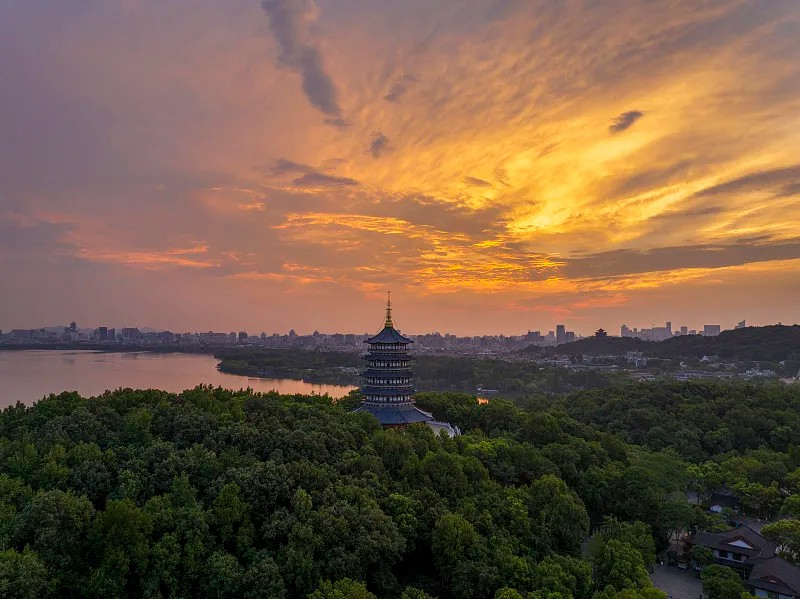Leifeng: (342, 291, 435, 436)
